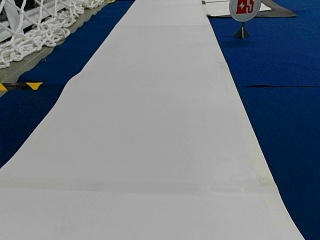battery: (229, 0, 263, 21)
